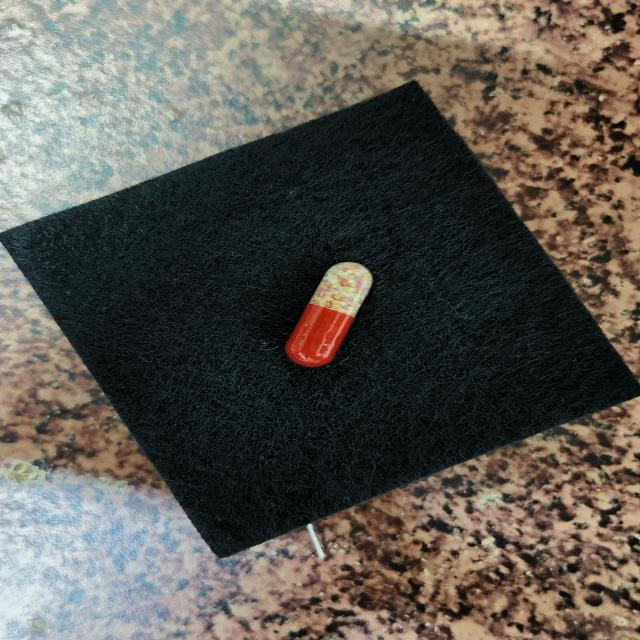Intact Capsule: (285, 262, 372, 367)
